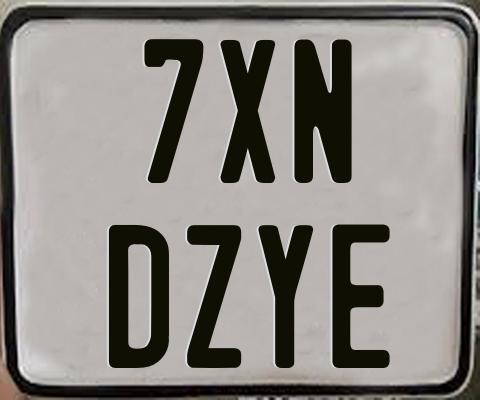7: (141, 36, 204, 180)
D: (108, 223, 170, 368)
E: (330, 224, 393, 372)
N: (291, 37, 355, 181)
X: (217, 40, 273, 183)
Y: (255, 222, 314, 368)
Z: (185, 222, 239, 368)
